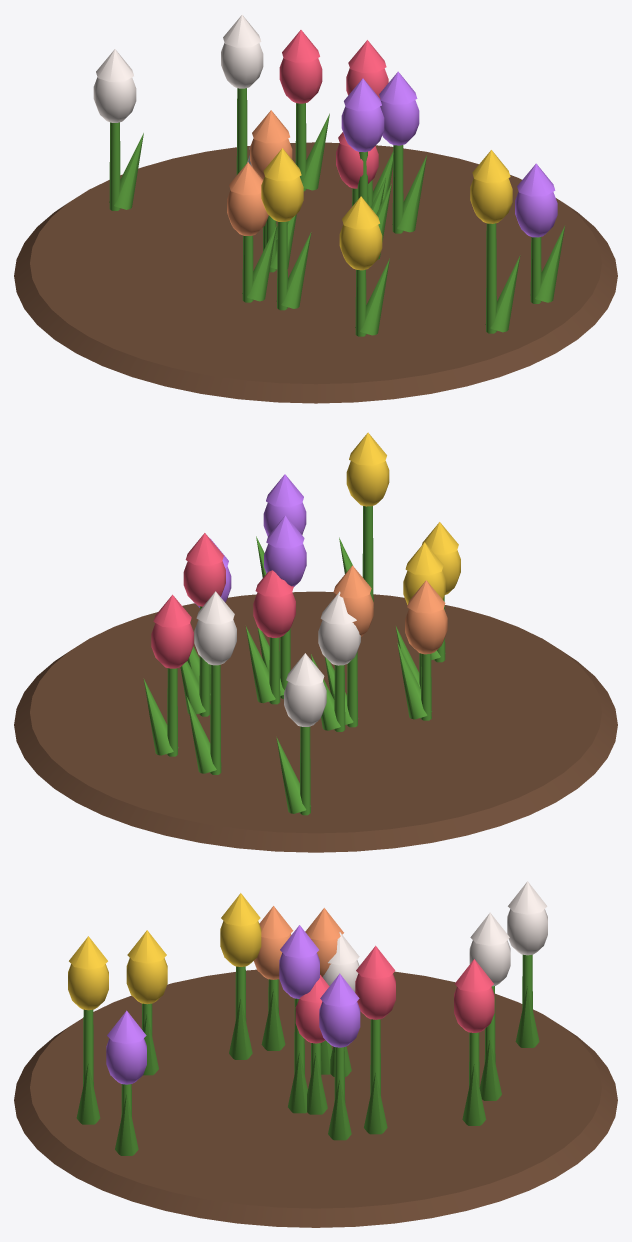
The model's file is flowers-tulips.glb.
The picture shows the model from 3 angles, top to bottom: view 1: azimuth 30°, elevation 25°; view 2: azimuth 150°, elevation 25°; view 3: azimuth 270°, elevation 25°; orthographic projection.
Size of the model in its own units: 1.52 by 0.54 by 1.52.
